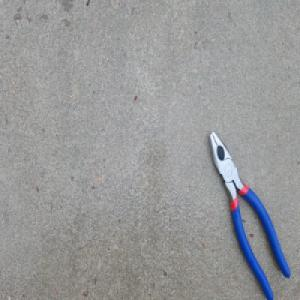Pliers: (206, 127, 290, 300)
